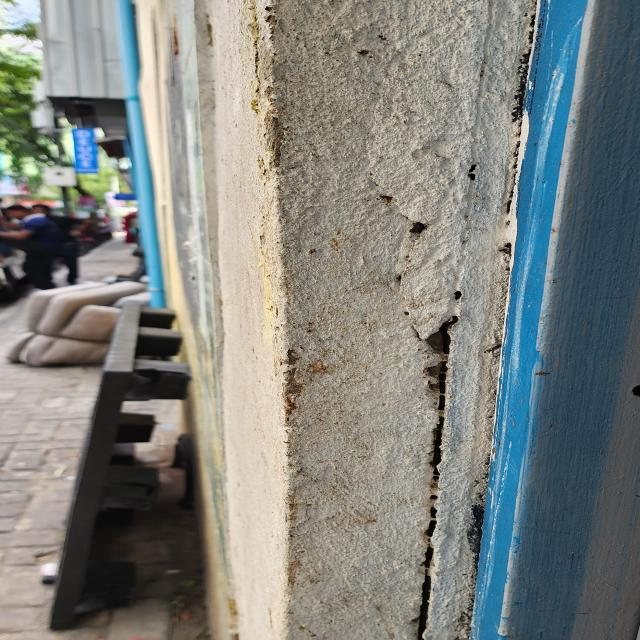SurfaceCrack: (1, 47, 234, 640), (335, 2, 494, 640), (209, 0, 343, 640)
